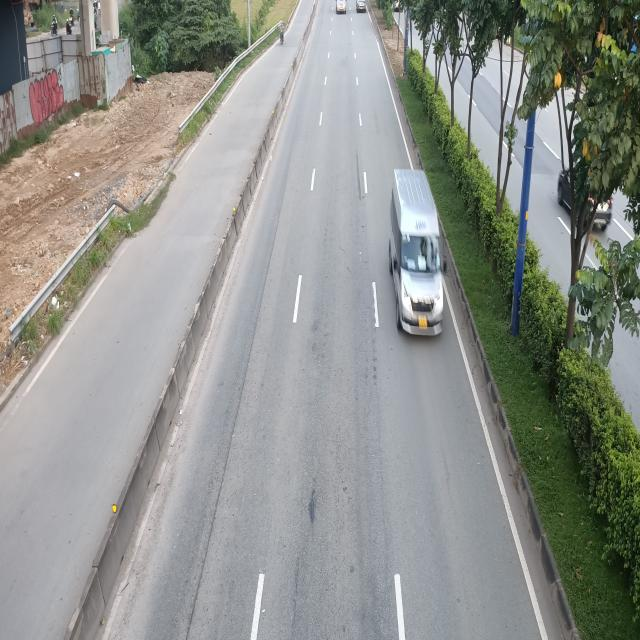van: (390, 165, 448, 336)
